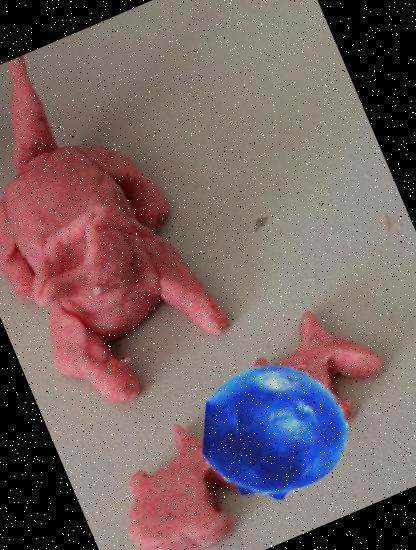Huckleberry: (182, 338, 370, 526)
